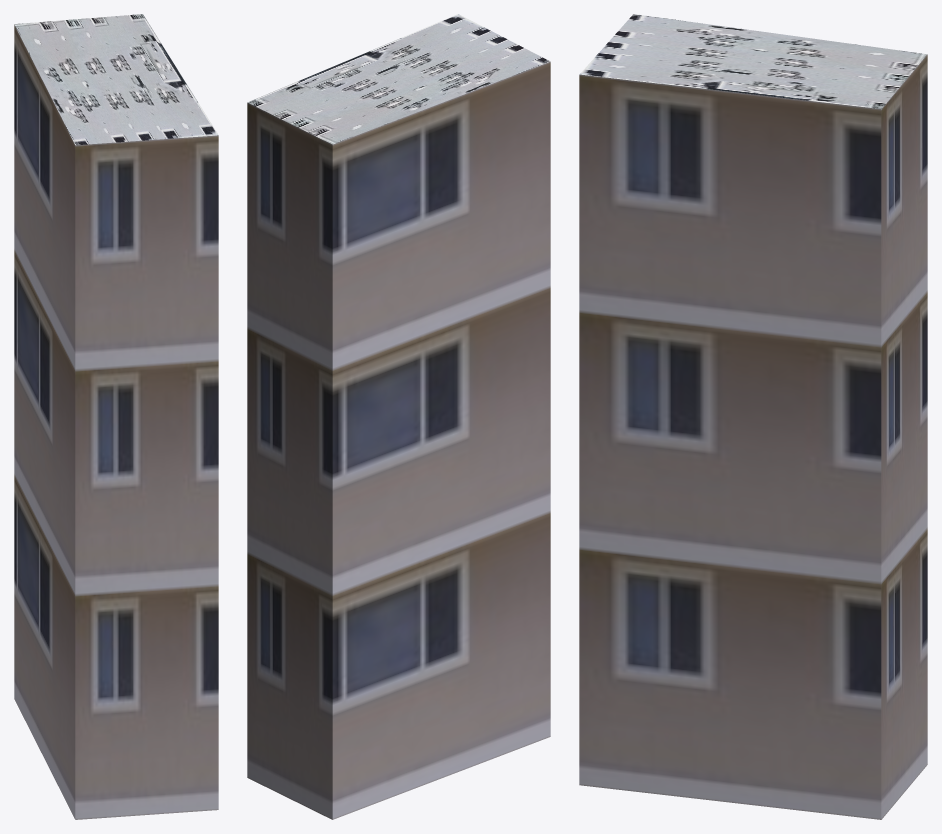
Rendered from ResTex__395.fbx.
The picture shows the model from 3 angles, left to right: view 1: azimuth 30°, elevation 25°; view 2: azimuth 150°, elevation 25°; view 3: azimuth 270°, elevation 25°; orthographic projection. The views are drawn at different scales.
Parts seen in each view (by area): view 1: CityEngineMaterial_21_m, CityEngineMaterial_m; view 2: CityEngineMaterial_21_m, CityEngineMaterial_m; view 3: CityEngineMaterial_21_m, CityEngineMaterial_m.
Boxes of the visible parts, x1,y1,x2,y2 form: CityEngineMaterial_21_m: [14, 25, 218, 819]; CityEngineMaterial_m: [14, 14, 218, 145]; CityEngineMaterial_21_m: [247, 61, 550, 819]; CityEngineMaterial_m: [247, 14, 550, 144]; CityEngineMaterial_21_m: [579, 54, 927, 819]; CityEngineMaterial_m: [579, 14, 926, 109].
Size of the model in its own units: 2.59 by 9 by 3.99.
Materials: 2 (2 with a texture image).
